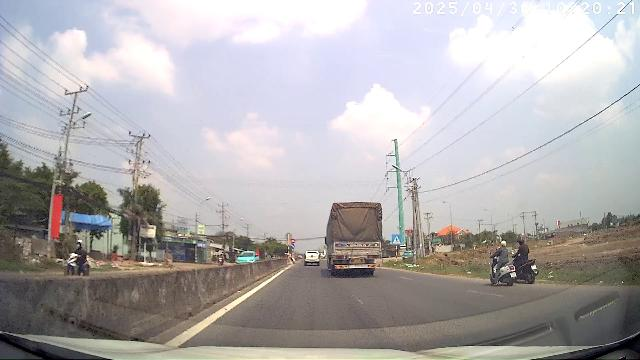423a-duong-nguoi-di-bo-sang-ngang-1: (392, 234, 402, 245)
